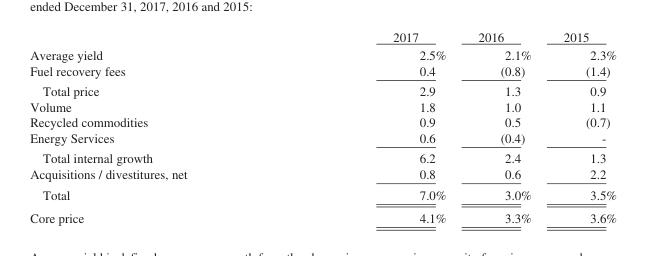table: (29, 29, 616, 224)
table column: (29, 29, 289, 224), (289, 29, 461, 224), (461, 29, 546, 224), (546, 29, 616, 224)
table column header: (29, 29, 616, 45)
table row: (29, 183, 616, 205), (29, 205, 616, 224), (29, 62, 616, 80), (29, 80, 616, 98), (29, 129, 616, 147), (29, 147, 616, 165), (29, 165, 616, 183), (29, 45, 616, 62), (29, 29, 616, 45), (29, 98, 616, 114), (29, 114, 616, 129)
